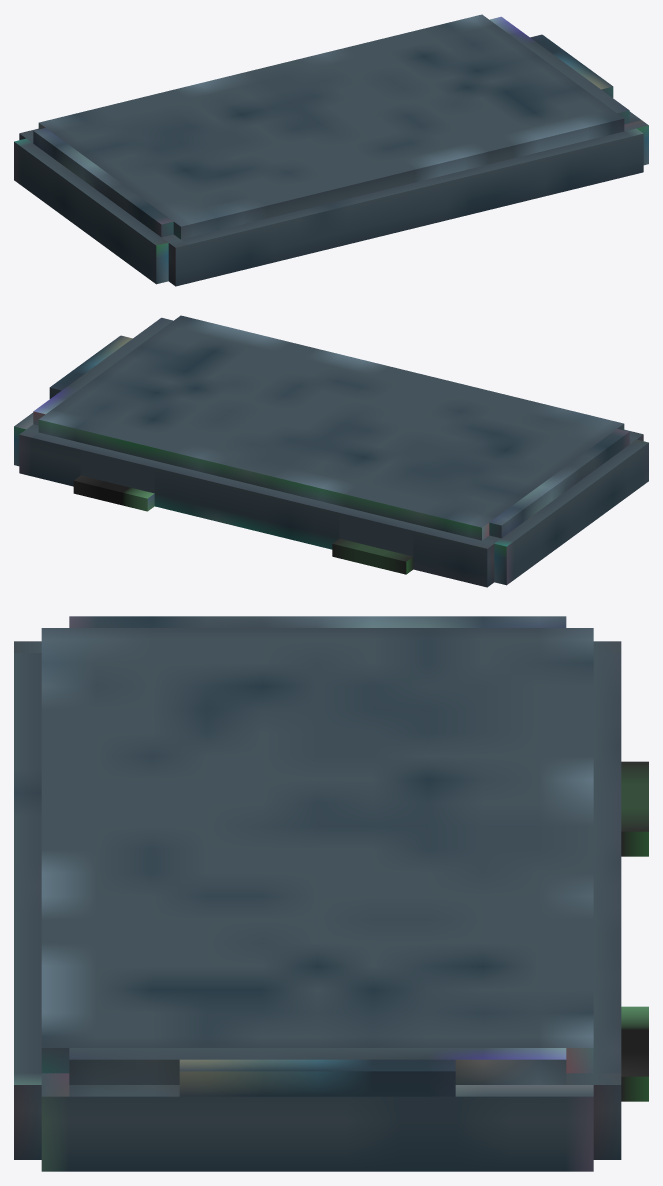
The model's file is Trash_Container_Top_00.fbx.
The picture shows the model from 3 angles, top to bottom: view 1: azimuth 30°, elevation 25°; view 2: azimuth 150°, elevation 25°; view 3: azimuth 270°, elevation 25°; orthographic projection. The views are drawn at different scales.
Visible parts, largest first — view 1: Trash_Container_Top_00; view 2: Trash_Container_Top_00; view 3: Trash_Container_Top_00.
Boxes of the visible parts, x1,y1,x2,y2 form: Trash_Container_Top_00: (14,14,648,286); Trash_Container_Top_00: (14,315,648,587); Trash_Container_Top_00: (14,616,648,1171).
Bounding box in the file's own units: 200 × 20 × 115.
